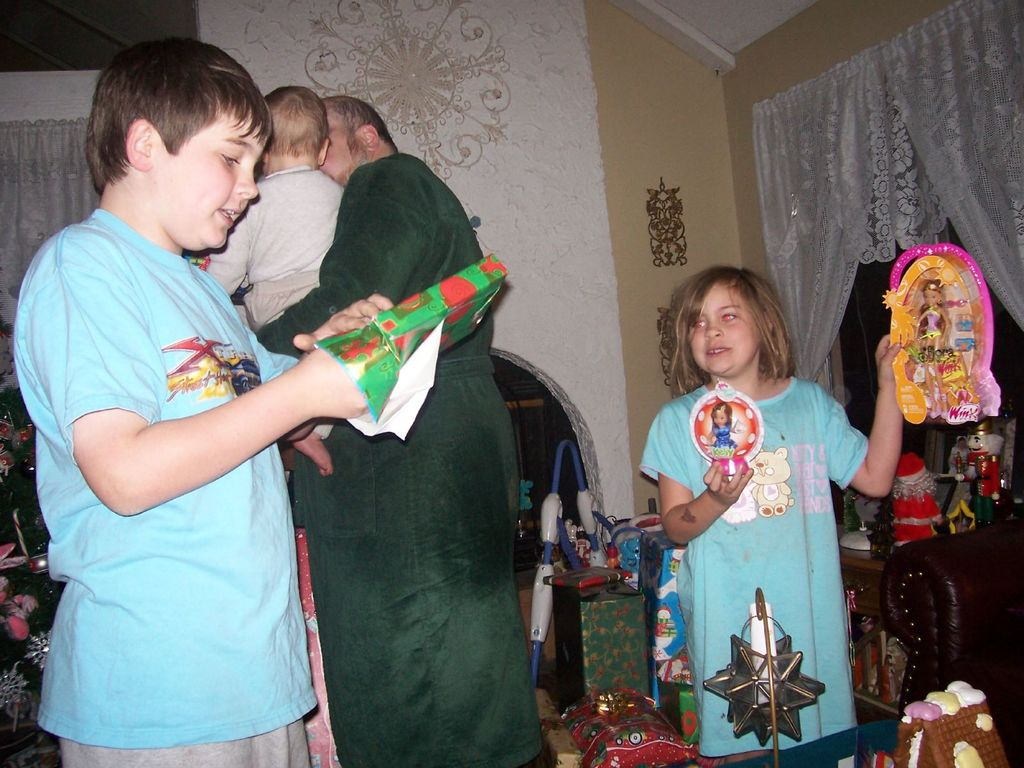Human_hand: (258, 341, 362, 435), (290, 292, 395, 355), (702, 457, 756, 507), (293, 430, 332, 478), (874, 330, 902, 387), (20, 593, 43, 614)
